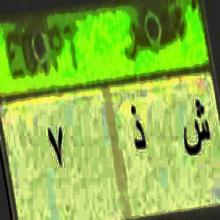7: (45, 120, 69, 175)
sheen: (181, 96, 212, 167)
zaal: (129, 100, 149, 159)
